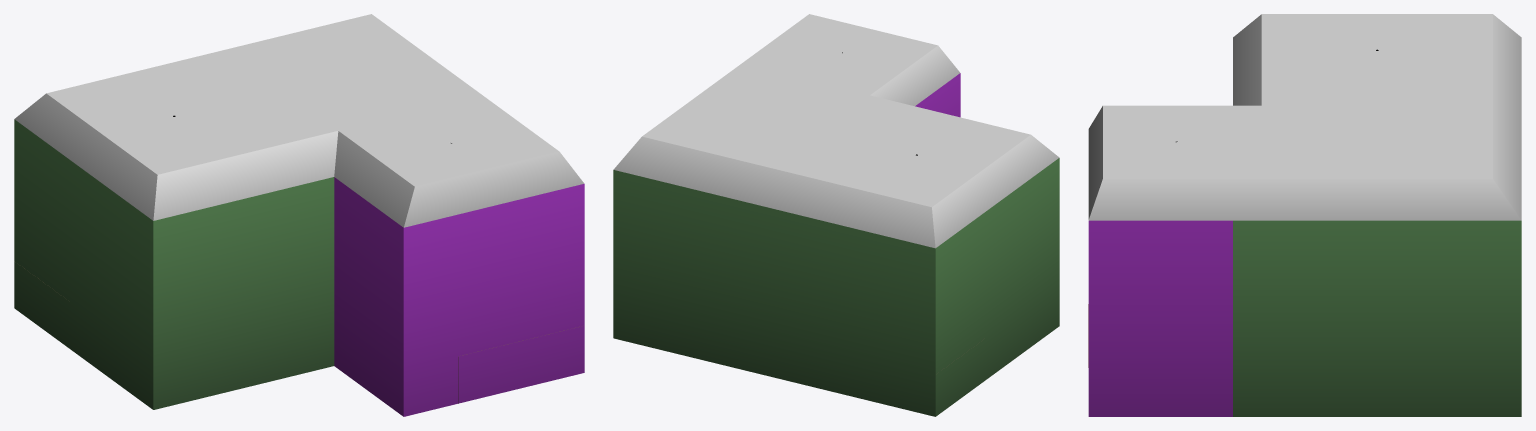
File: demo world.fbx
3 views of the same model, side by side, from view 1: azimuth 30°, elevation 25°; view 2: azimuth 150°, elevation 25°; view 3: azimuth 270°, elevation 25° (orthographic). The views are drawn at different scales.
Parts seen in each view (by area): view 1: walls, ceiling; view 2: walls, ceiling; view 3: walls, ceiling.
Boxes of the visible parts, x1=… form: walls: x1=14, y1=119, x2=584, y2=416; ceiling: x1=14, y1=14, x2=583, y2=227; walls: x1=613, y1=73, x2=1059, y2=416; ceiling: x1=613, y1=14, x2=1059, y2=248; walls: x1=1088, y1=220, x2=1521, y2=416; ceiling: x1=1088, y1=14, x2=1521, y2=220.
Size of the model in its own units: 600 by 351 by 600.
